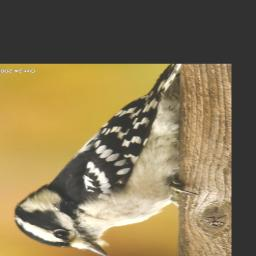Woodpecker: (12, 64, 194, 256)
